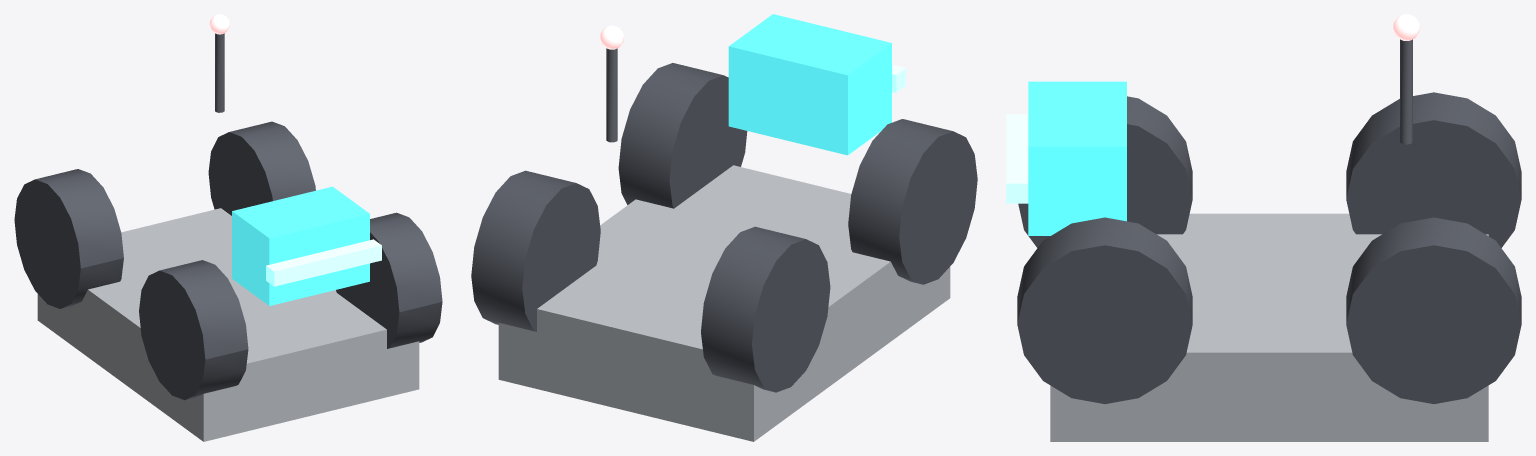
Rendered from avatar.glb.
3 renders of one model, left to right at view 1: azimuth 30°, elevation 25°; view 2: azimuth 150°, elevation 25°; view 3: azimuth 270°, elevation 25°, orthographic. The views are drawn at different scales.
Parts seen in each view (by area): view 1: chassis, wheel_fl, wheel_rl, head, wheel_fr, wheel_rr, head_edge, mast; view 2: chassis, head, wheel_rl, wheel_fl, wheel_rr, wheel_fr, mast; view 3: chassis, wheel_fr, wheel_rr, wheel_rl, head, wheel_fl, head_edge, mast, tip.
Boxes of the visible parts, x1,y1,x2,y2 form: chassis: [37, 208, 419, 441]; wheel_fl: [139, 260, 248, 400]; wheel_rl: [14, 169, 123, 308]; head: [232, 186, 369, 305]; wheel_fr: [336, 212, 442, 348]; wheel_rr: [208, 121, 315, 215]; head_edge: [266, 239, 381, 286]; mast: [215, 33, 224, 112]; chassis: [498, 165, 950, 441]; head: [728, 14, 891, 155]; wheel_rl: [701, 226, 830, 392]; wheel_fl: [848, 119, 977, 284]; wheel_rr: [471, 170, 600, 331]; wheel_fr: [618, 63, 747, 208]; mast: [606, 48, 617, 142]; chassis: [1050, 213, 1488, 441]; wheel_fr: [1017, 217, 1192, 403]; wheel_rr: [1346, 217, 1521, 403]; wheel_rl: [1346, 92, 1521, 247]; head: [1028, 81, 1126, 235]; wheel_fl: [1018, 96, 1192, 247]; head_edge: [1006, 114, 1028, 203]; mast: [1400, 39, 1412, 144]; tip: [1393, 14, 1420, 40].
Size of the model in its own units: 0.66 by 0.775 by 0.94.
